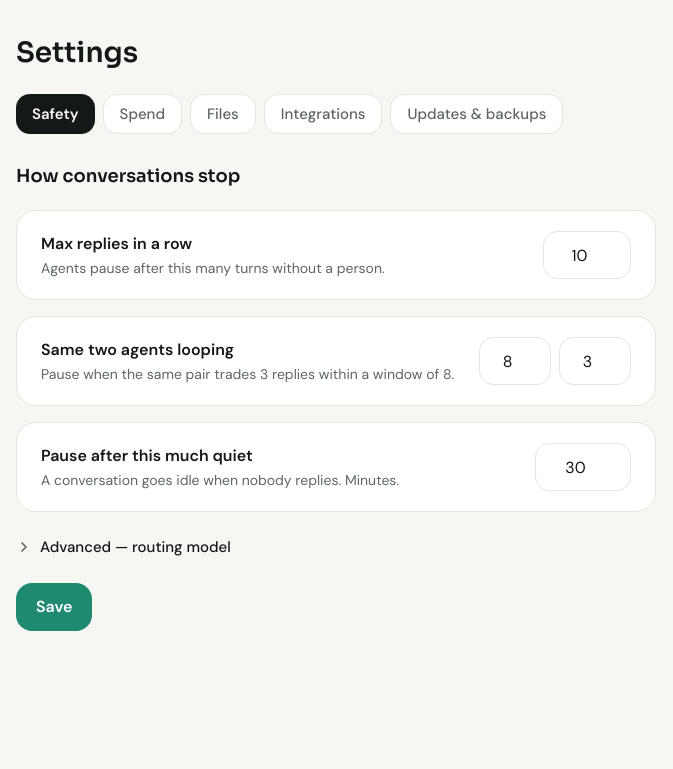
it: settings/+page.svelte › shows a human status and last_error on a connected Google account (#480)
Click the button "Integrations" at (323, 114), box [264,94,382,134]
(page scrolled)
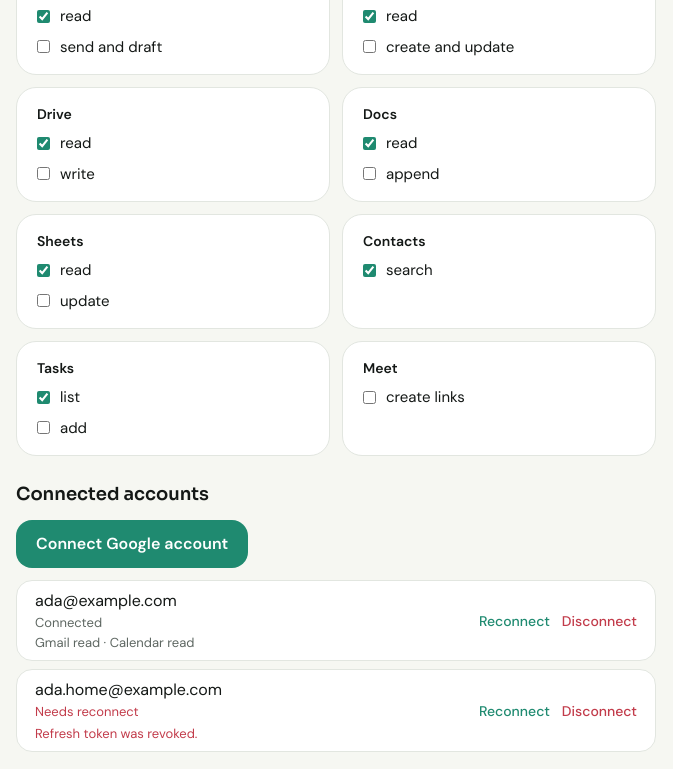
Check: the text "Connected" is shown, box [35,614,102,631]
Check: the text "Gmail read · Calendar read" is shown, box [35,634,194,650]
Check: the text "Needs reconnect" is shown, box [35,703,139,720]
